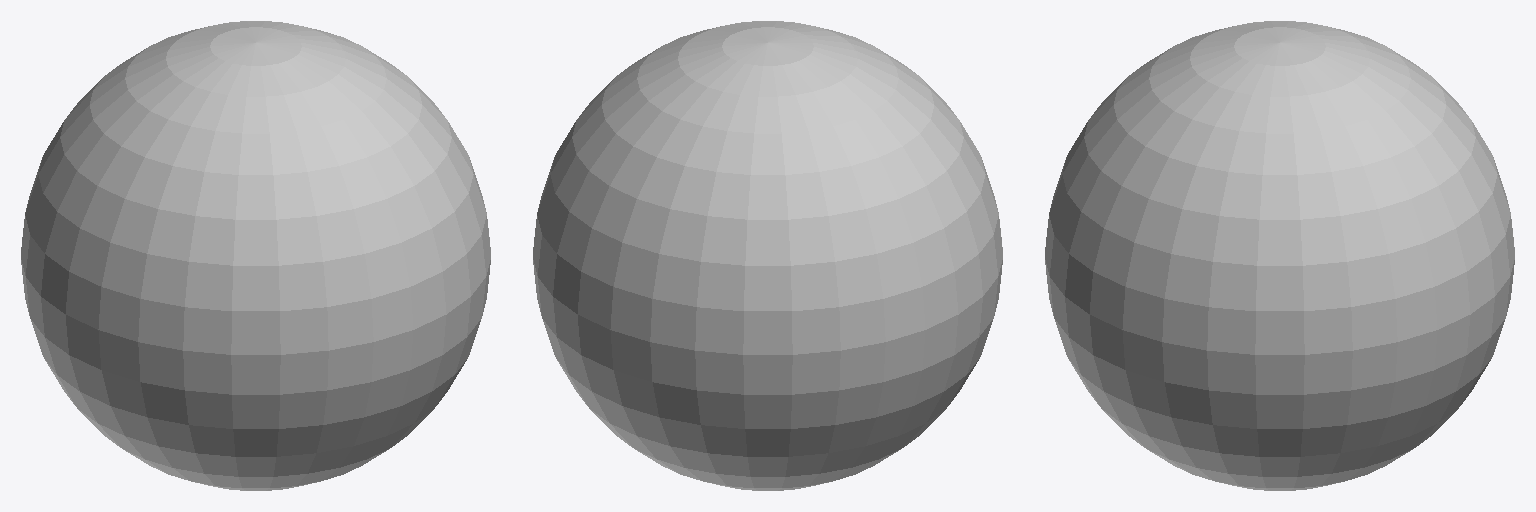
The model's file is normal_rock_sphere.obj.
The picture shows the model from 3 angles: view 1: azimuth 30°, elevation 25°; view 2: azimuth 150°, elevation 25°; view 3: azimuth 270°, elevation 25°; orthographic projection.
Parts seen in each view (by area): view 1: Sphere; view 2: Sphere; view 3: Sphere.
Boxes of the visible parts, x1=… form: Sphere: x1=21, y1=21, x2=490, y2=490; Sphere: x1=533, y1=21, x2=1002, y2=490; Sphere: x1=1045, y1=21, x2=1514, y2=490.
Size of the model in its own units: 1.29 by 1.3 by 1.3.